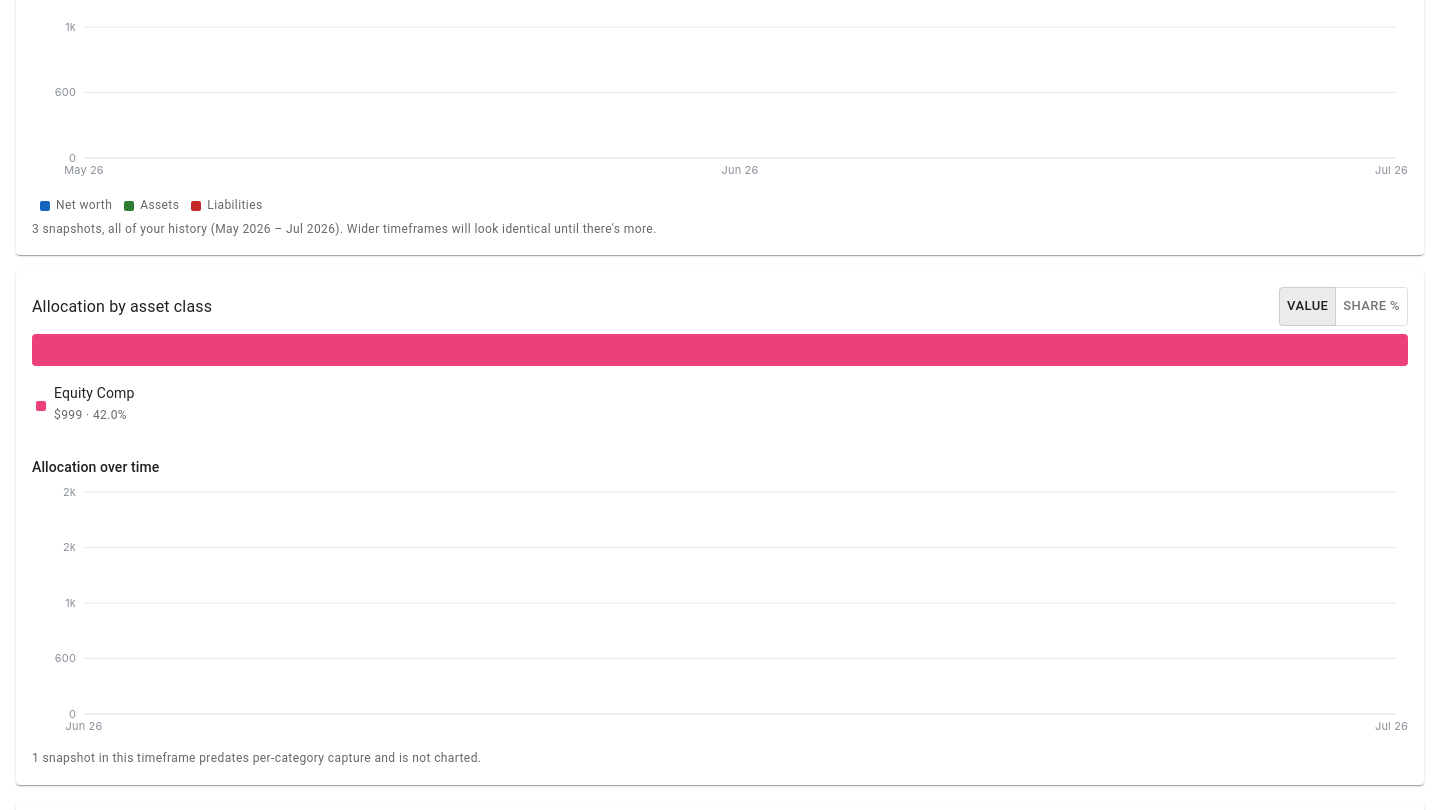
Test: row totals that disagree with the allocation slice raise a warning
The image size is (1440, 810).
(page scrolled)
Click the button "Equity Comp $999 · 42.0%" at [87, 406], box [32,378,142,433]
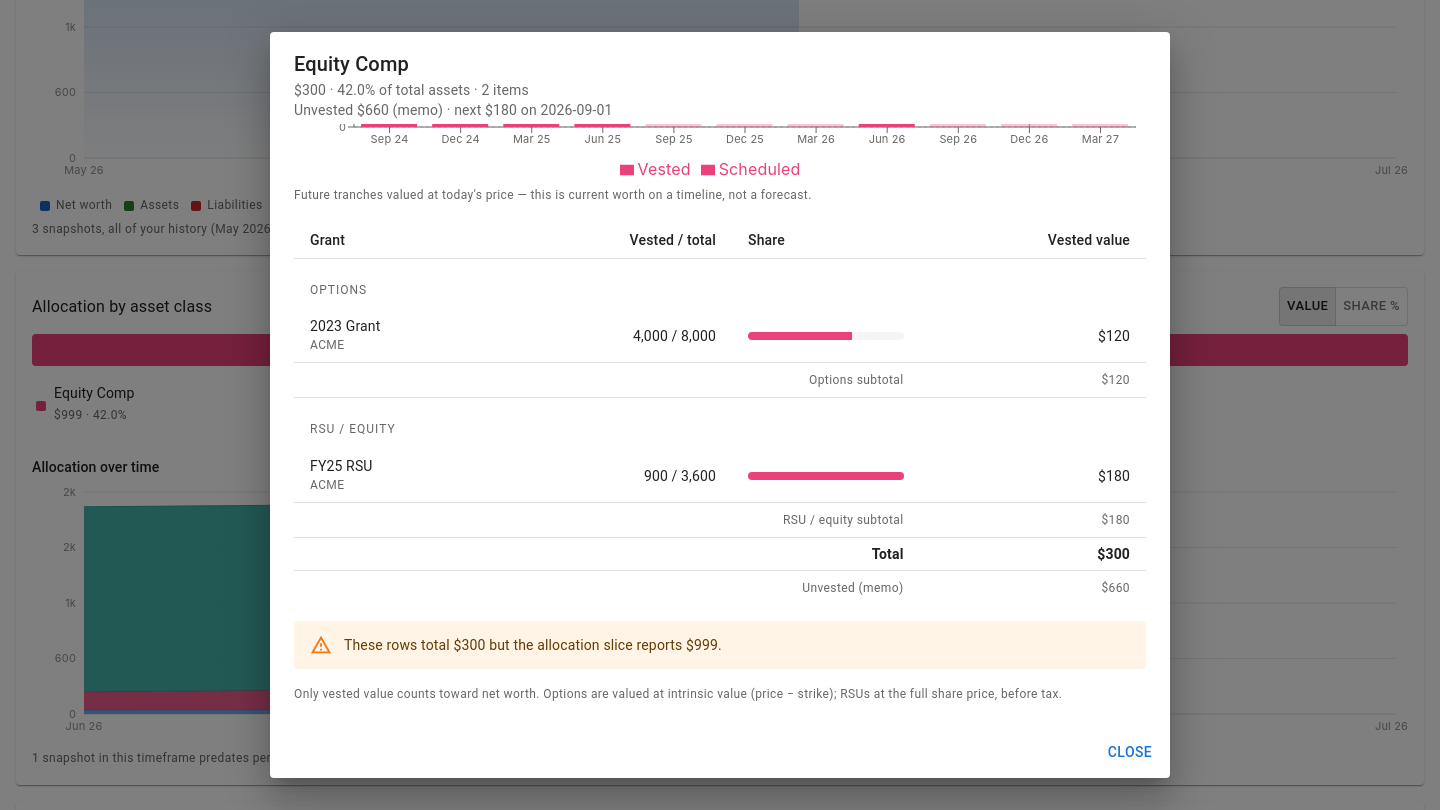
Check: the text "These rows total $300 but the allocation slice reports $999." is shown, box [344,637,722,653]
